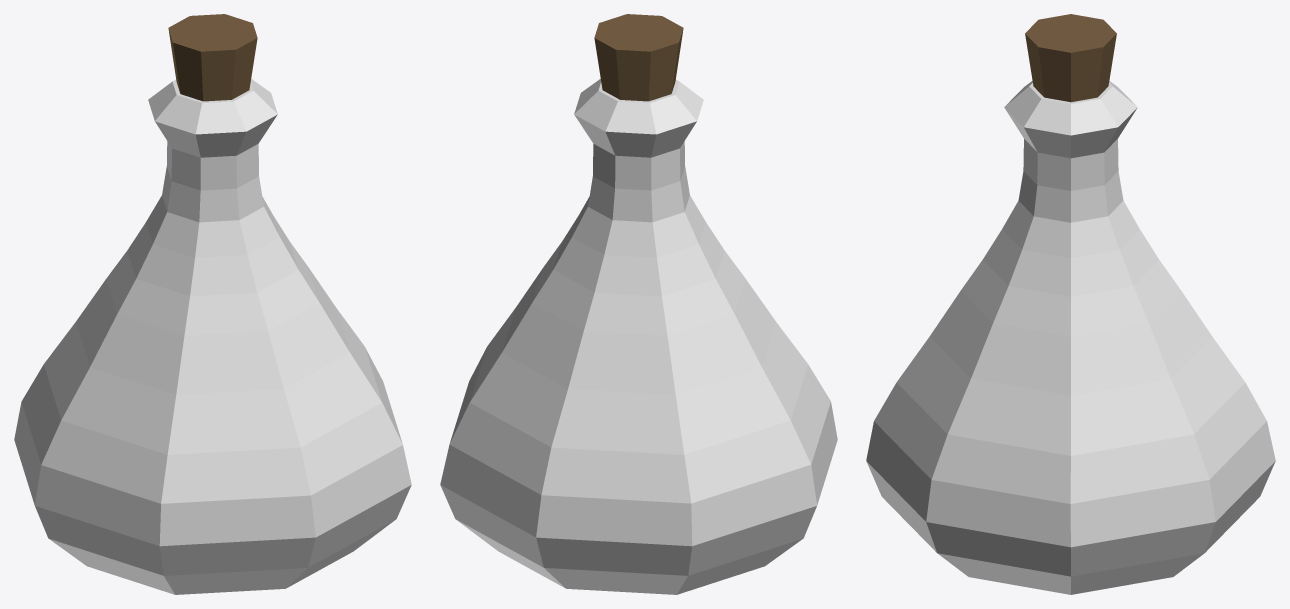
The model's file is flask.fbx.
The picture shows the model from 3 angles, left to right: view 1: azimuth 30°, elevation 25°; view 2: azimuth 150°, elevation 25°; view 3: azimuth 270°, elevation 25°; orthographic projection.
Parts seen in each view (by area): view 1: Cylinder; view 2: Cylinder; view 3: Cylinder.
Part boxes in pixels (x1,y1,x2,y2): Cylinder: [14, 14, 411, 594]; Cylinder: [440, 14, 837, 594]; Cylinder: [866, 14, 1275, 594].
Size of the model in its own units: 347 by 467 by 347.
